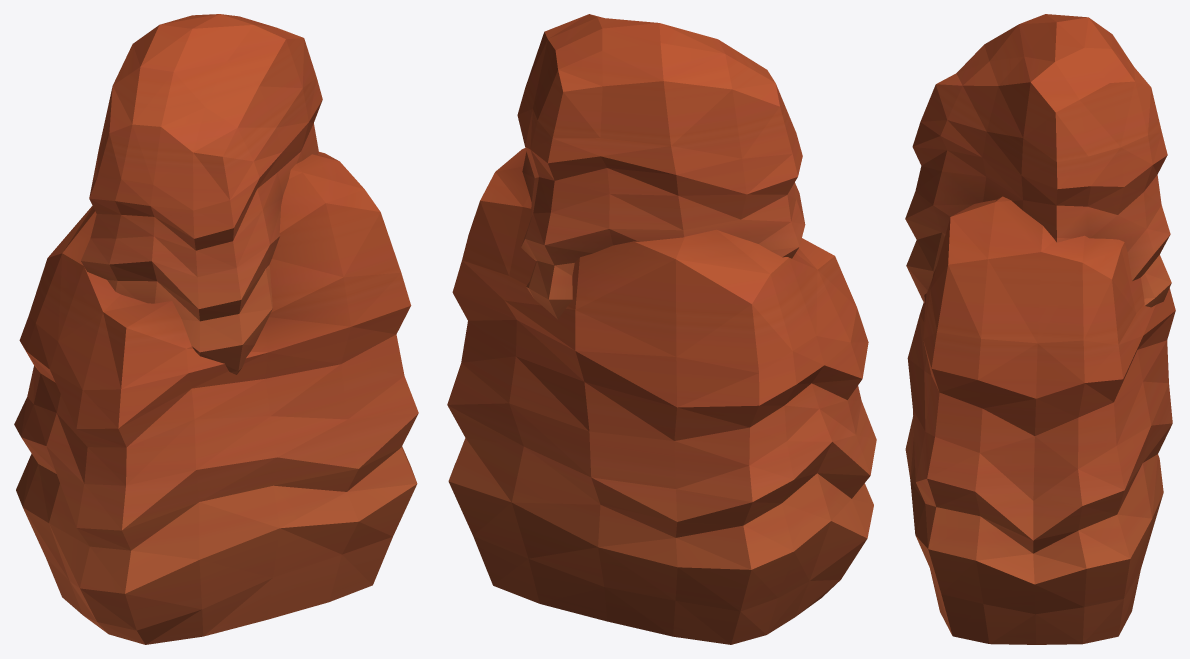
Rendered from bush_tall.glb.
The picture shows the model from 3 angles, left to right: view 1: azimuth 30°, elevation 25°; view 2: azimuth 150°, elevation 25°; view 3: azimuth 270°, elevation 25°; orthographic projection. The views are drawn at different scales.
Parts seen in each view (by area): view 1: Bush_1_1_A; view 2: Bush_1_1_A; view 3: Bush_1_1_A.
Boxes of the visible parts, left/top/right/bottom form: Bush_1_1_A: left=14, top=14, right=418, bottom=644; Bush_1_1_A: left=447, top=14, right=876, bottom=644; Bush_1_1_A: left=905, top=14, right=1175, bottom=644.
Size of the model in its own units: 0.786 by 1.2 by 0.534.
Materials: 1 (1 with a texture image).
